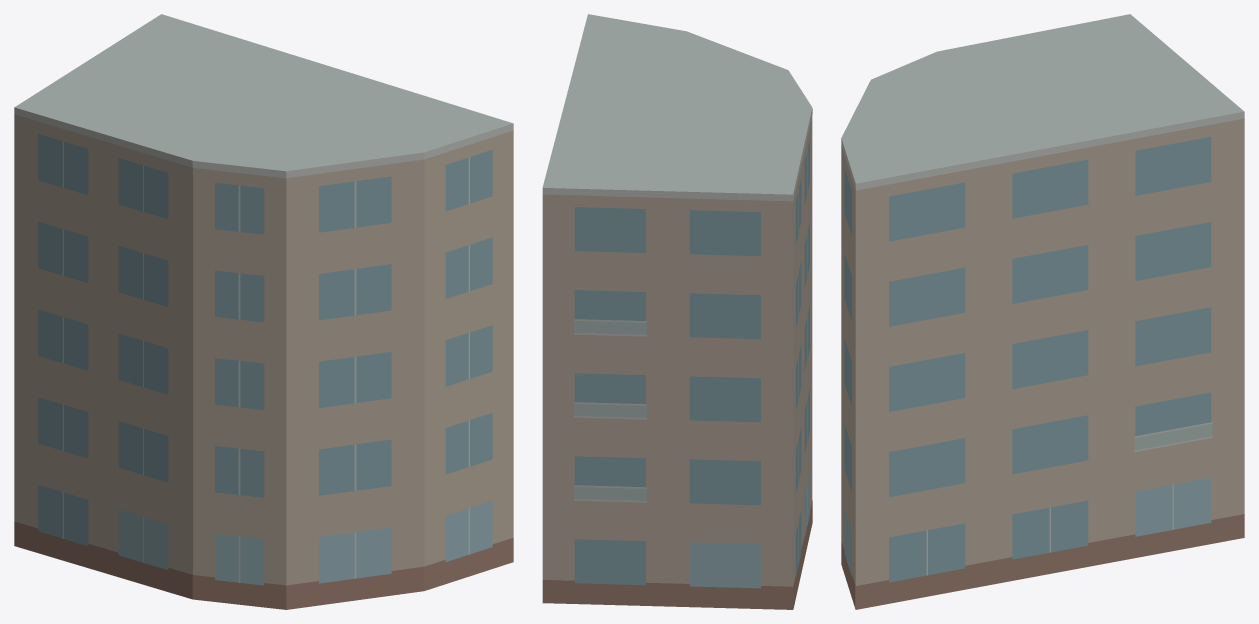
The model's file is residential-4e269768-9d2c-49f9-a9e1-96a8f517178c.glb.
3 views of the same model, side by side, from view 1: azimuth 30°, elevation 25°; view 2: azimuth 150°, elevation 25°; view 3: azimuth 270°, elevation 25° (orthographic). The views are drawn at different scales.
Parts seen in each view (by area): view 1: residential-4e269768-9d2c-49f9-a9e1-96a8f517178c.tmp; view 2: residential-4e269768-9d2c-49f9-a9e1-96a8f517178c.tmp; view 3: residential-4e269768-9d2c-49f9-a9e1-96a8f517178c.tmp.
Part boxes in pixels (bbox=[...]): residential-4e269768-9d2c-49f9-a9e1-96a8f517178c.tmp: bbox=[14, 14, 513, 609]; residential-4e269768-9d2c-49f9-a9e1-96a8f517178c.tmp: bbox=[542, 14, 812, 609]; residential-4e269768-9d2c-49f9-a9e1-96a8f517178c.tmp: bbox=[841, 14, 1244, 609].
Size of the model in its own units: 13.04 by 15.25 by 13.09.
